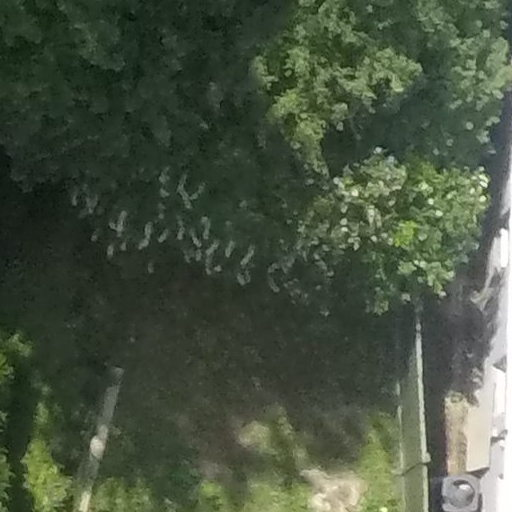air conditioner: (432, 473, 479, 512)
